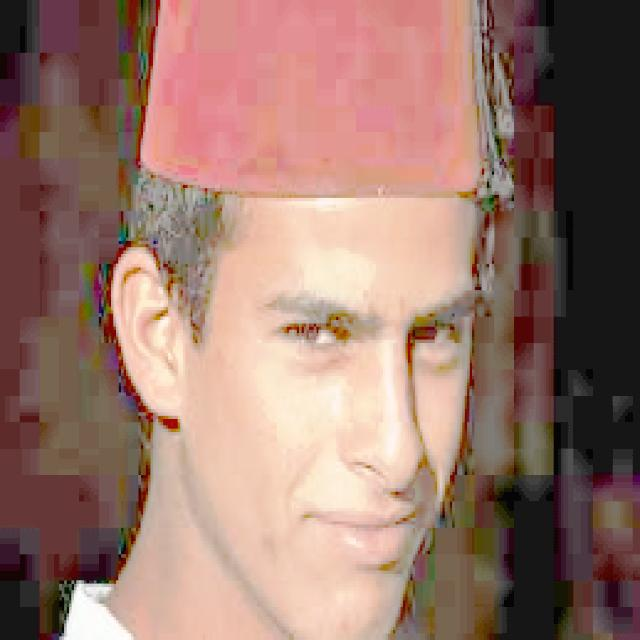TOPI: (134, 0, 496, 201)
